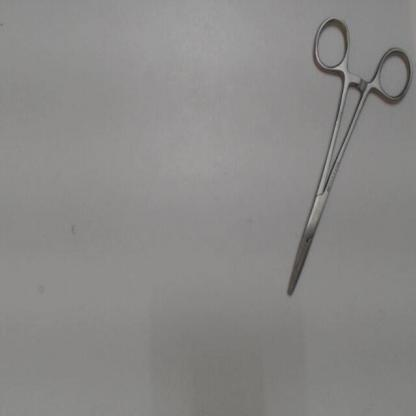Mayo Needle Holder: (274, 12, 415, 310)
